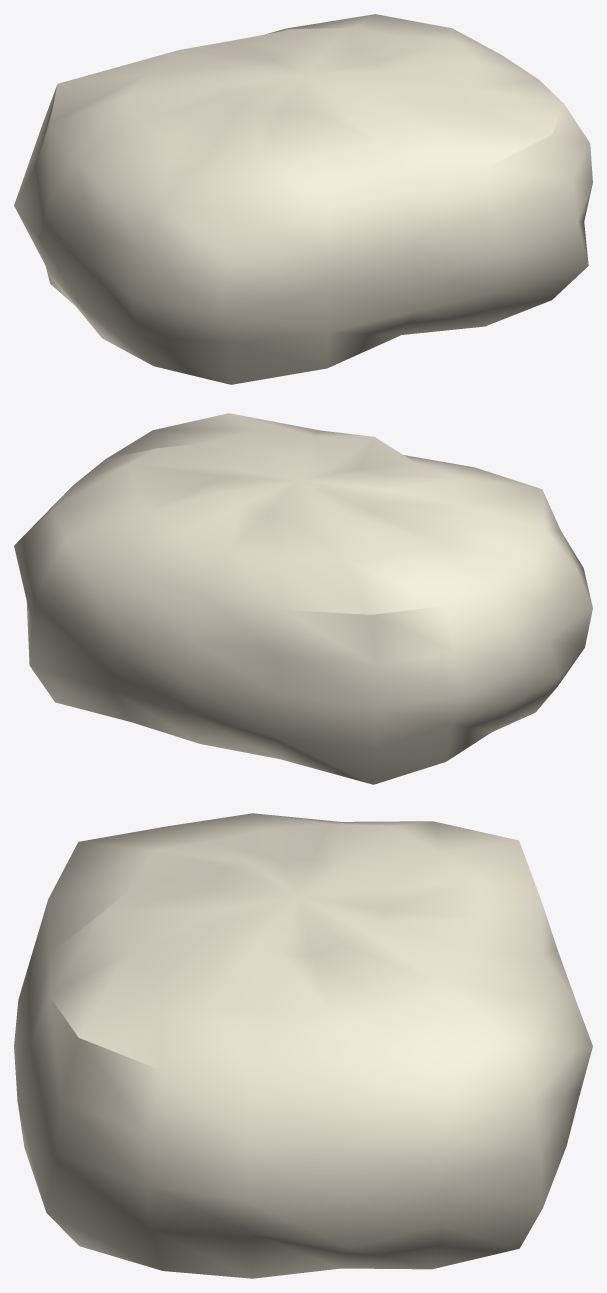
File: gale_ram_tallow.glb
The picture shows the model from 3 angles, top to bottom: view 1: azimuth 30°, elevation 25°; view 2: azimuth 150°, elevation 25°; view 3: azimuth 270°, elevation 25°; orthographic projection. The views are drawn at different scales.
Parts seen in each view (by area): view 1: gale_ram_tallow; view 2: gale_ram_tallow; view 3: gale_ram_tallow.
Boxes of the visible parts, bbox=[...] form: gale_ram_tallow: bbox=[14, 14, 592, 384]; gale_ram_tallow: bbox=[14, 413, 592, 784]; gale_ram_tallow: bbox=[14, 813, 592, 1278].
Bounding box in the file's own units: 0.1 × 0.04 × 0.08.
